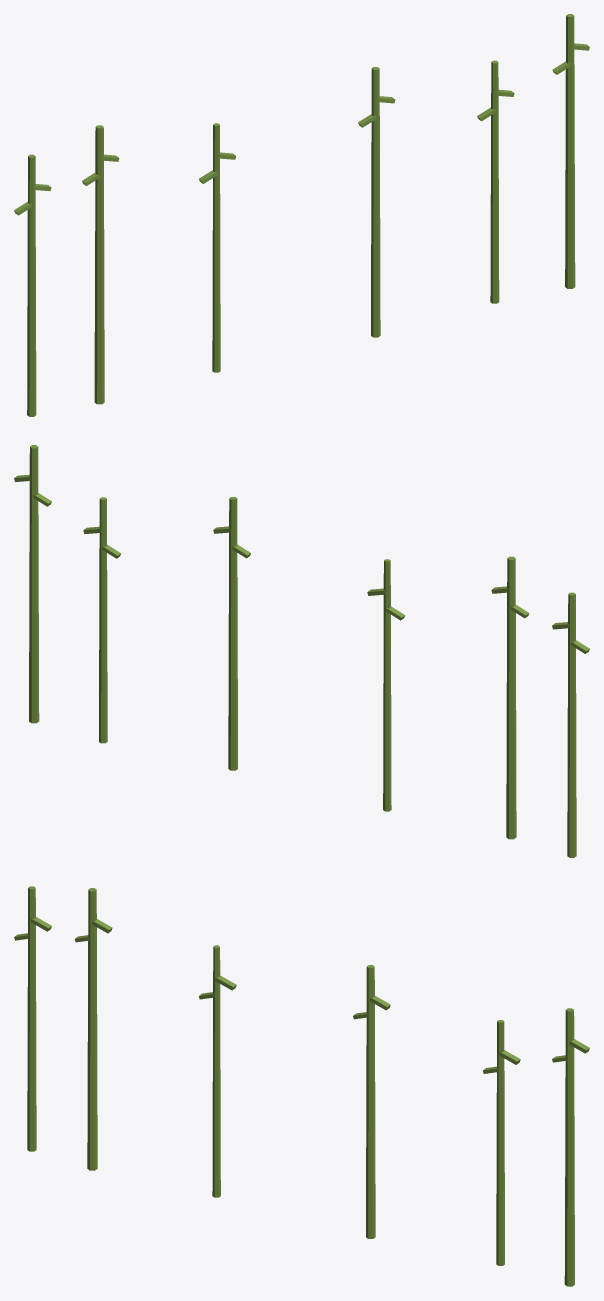
The model's file is bamboo.glb.
The picture shows the model from 3 angles, top to bottom: view 1: azimuth 30°, elevation 25°; view 2: azimuth 150°, elevation 25°; view 3: azimuth 330°, elevation 25°; orthographic projection.
Visible parts, largest first — view 1: BambooCluster; view 2: BambooCluster; view 3: BambooCluster.
Boxes of the visible parts, x1,y1,x2,y2 form: BambooCluster: (14,14,589,416); BambooCluster: (14,445,589,857); BambooCluster: (14,886,589,1286).
Bounding box in the file's own units: 285 × 132 × 8.1.
